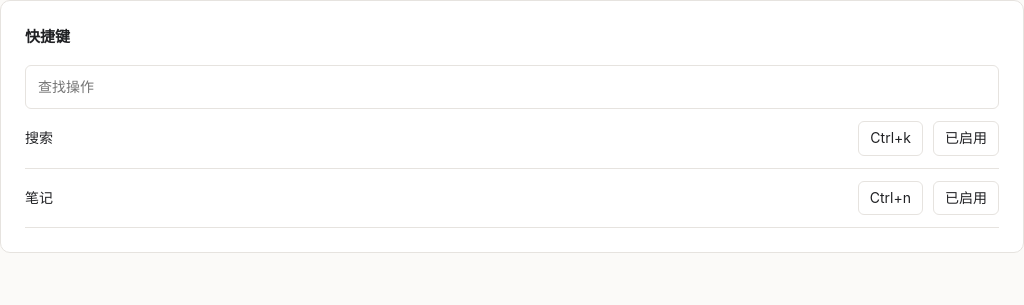
Test: reports a shortcut conflict and leaves the current binding intact
Click the button with aria-label "设置笔记快捷键" at (890, 198), box [858, 181, 923, 215]
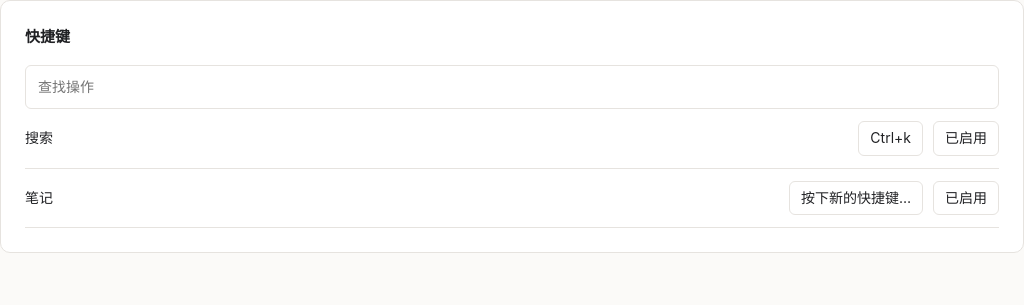
Press k in the button with aria-label "设置笔记快捷键", box [789, 181, 923, 215]
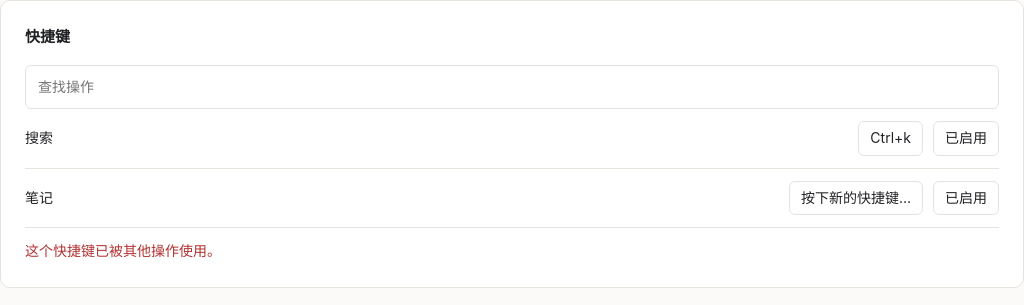
Expected: the message shows "已被其他操作使用", [25, 242, 221, 259]
